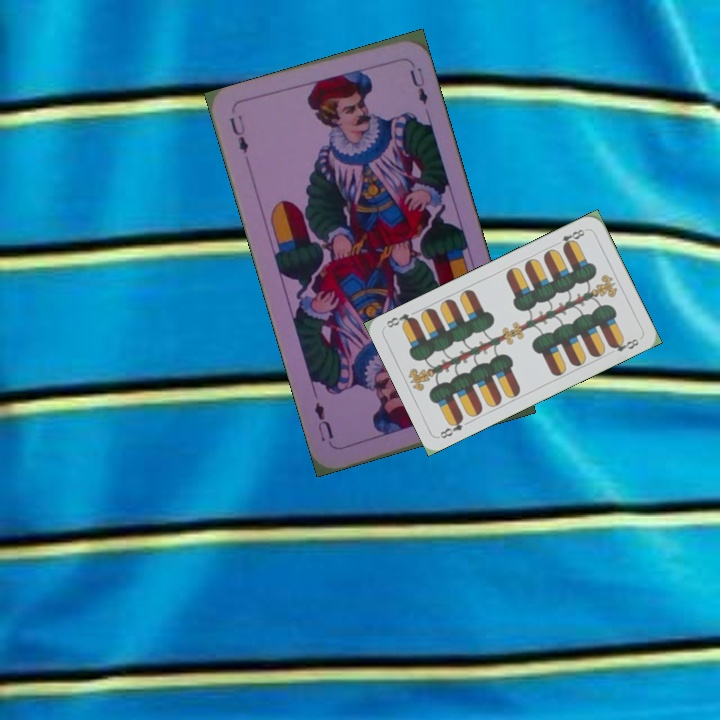E8: (551, 225, 590, 251), (436, 413, 466, 441)
EU: (225, 111, 251, 156)
